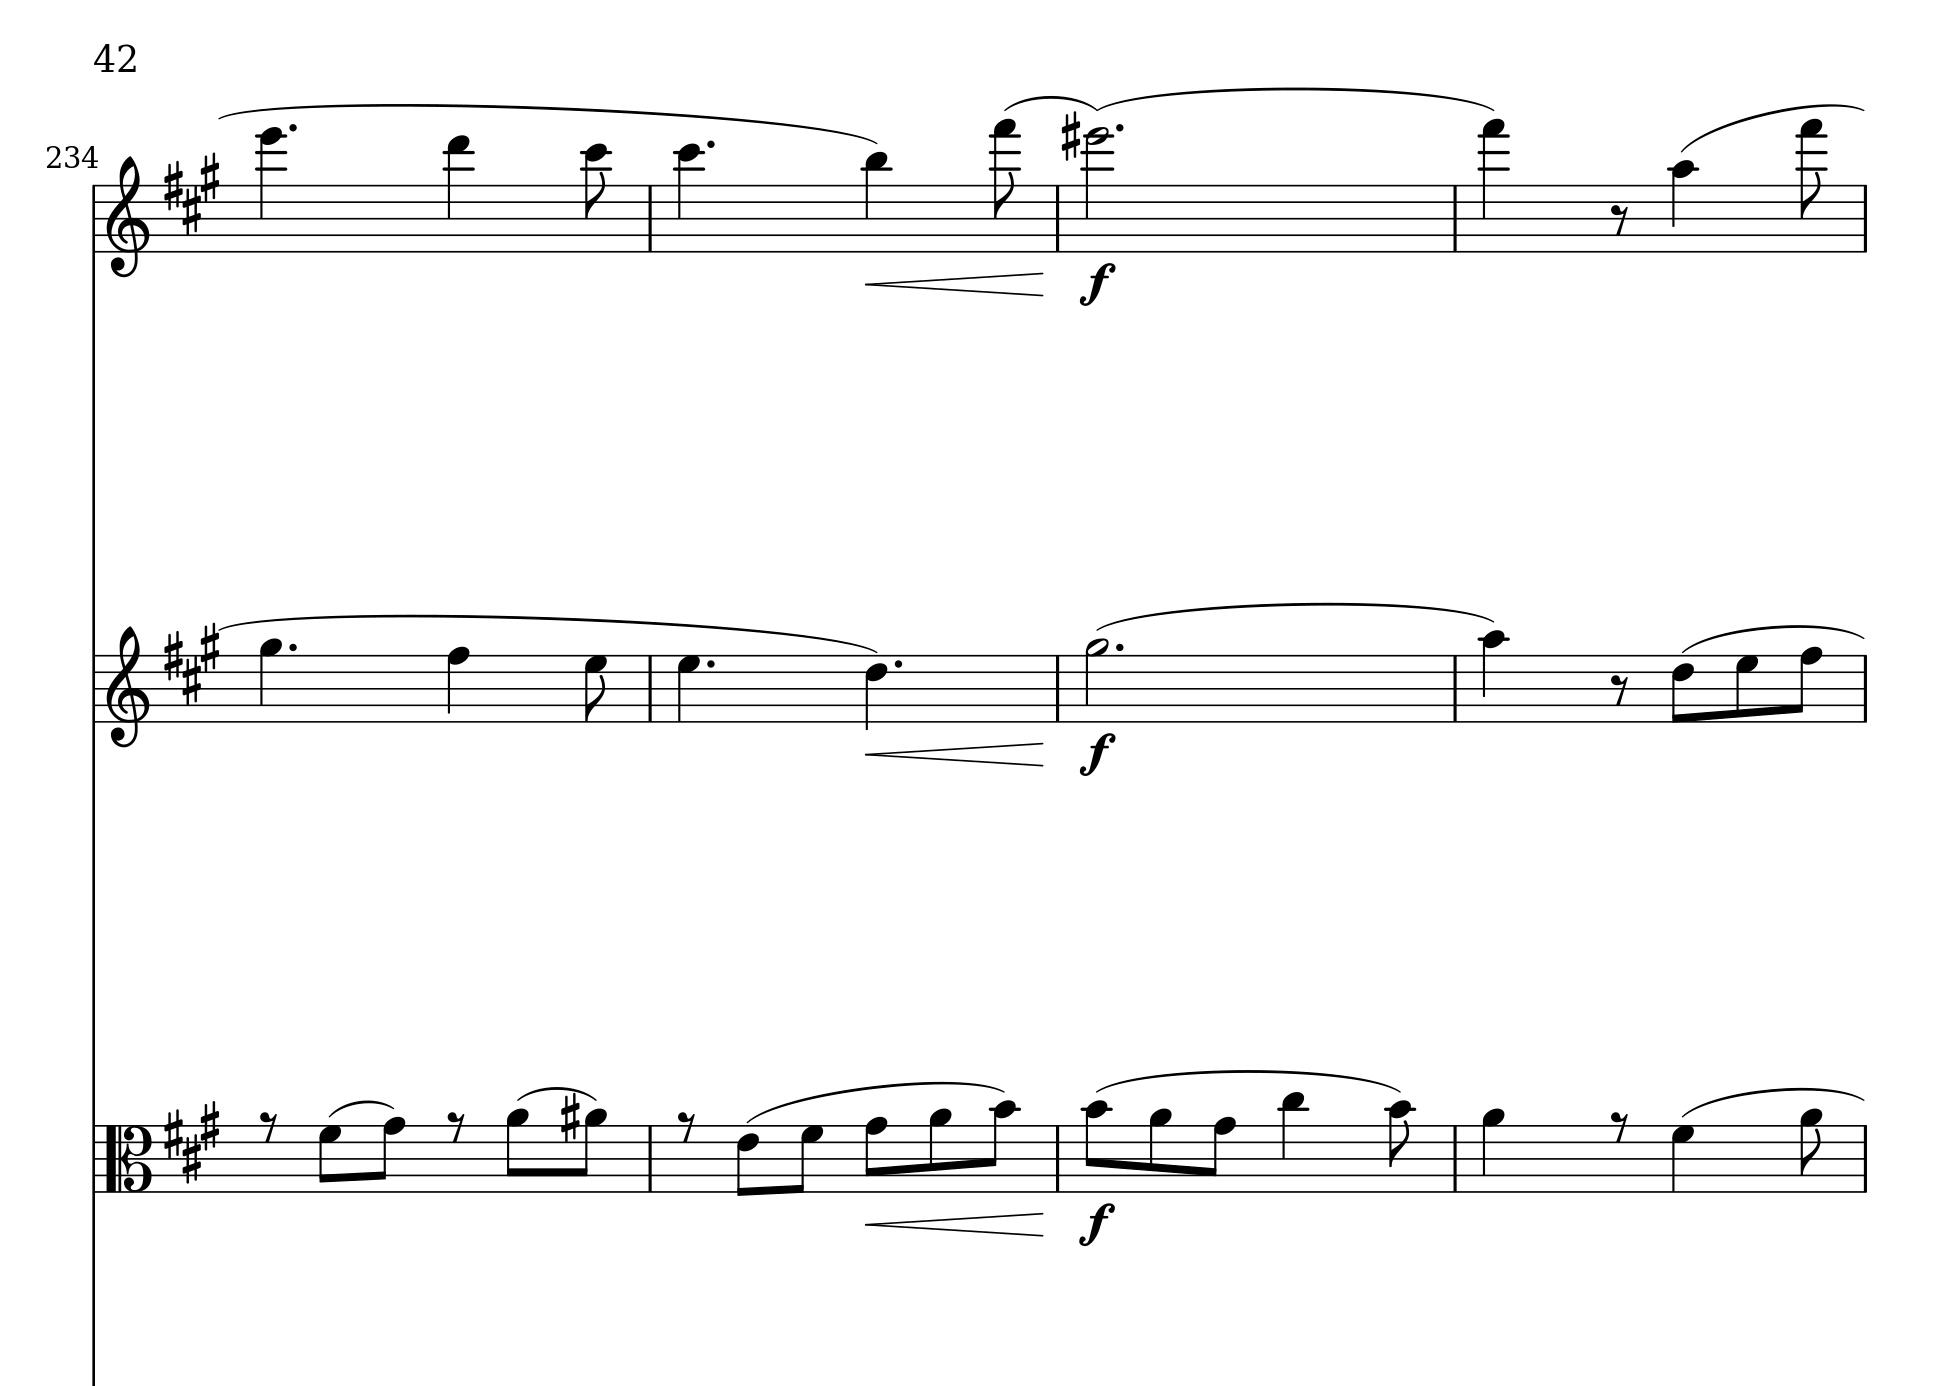2: (115, 40, 138, 73), (43, 142, 63, 171)
2_9: (1083, 637, 1110, 724)
3: (63, 142, 79, 169)
4: (93, 40, 114, 75), (81, 142, 99, 171)
4_10: (1668, 157, 1698, 255), (1479, 628, 1509, 724)
4_11: (861, 148, 889, 255), (1278, 1089, 1306, 1195)
4_12: (673, 141, 703, 255)
4_13: (442, 133, 472, 253)
4_14: (253, 124, 286, 255), (1083, 123, 1114, 253)
4_15: (1479, 117, 1507, 253)
4_6: (862, 652, 888, 730)
4_7: (675, 652, 702, 723), (1669, 1122, 1696, 1192)
4_8: (445, 643, 469, 724)
4_9: (1479, 1105, 1506, 1194), (256, 634, 282, 723)
8_10: (984, 1099, 1017, 1194), (1386, 1098, 1414, 1195), (1083, 1098, 1110, 1194)
8_12: (580, 141, 610, 255)
8_15: (1795, 117, 1827, 255), (990, 117, 1021, 253)
8_6: (733, 1122, 759, 1198), (1669, 652, 1695, 724)
8_7: (790, 1122, 823, 1194), (1734, 652, 1759, 724), (582, 652, 607, 723), (316, 1123, 342, 1192)
8_8: (1788, 643, 1822, 724), (370, 1114, 405, 1192), (1203, 1114, 1236, 1192), (862, 1114, 888, 1194)
8_9: (571, 1105, 606, 1194), (502, 1105, 529, 1194), (925, 1105, 952, 1194), (1798, 1105, 1824, 1194), (1147, 1105, 1171, 1192)
A_S: (160, 621, 220, 706), (162, 151, 220, 235), (162, 1099, 220, 1183)
Cclef: (103, 1123, 153, 1192)
Crescendo_hairpin: (862, 1209, 1044, 1240), (865, 739, 1044, 766), (865, 271, 1045, 297)
Gclef: (103, 622, 151, 748), (103, 154, 151, 279)
Rests8: (1608, 201, 1632, 237), (1608, 1108, 1630, 1144), (675, 1108, 697, 1143), (1609, 672, 1630, 706), (258, 1107, 279, 1141), (445, 1108, 466, 1143)
Sharp: (556, 1090, 579, 1143), (1059, 109, 1080, 162)
Single_barline: (85, 1123, 103, 1192), (1050, 655, 1068, 721), (1857, 184, 1873, 250), (642, 184, 658, 250), (1447, 184, 1464, 250), (1447, 1123, 1464, 1189), (1447, 655, 1464, 720), (642, 655, 658, 720), (642, 1125, 658, 1189), (85, 655, 100, 724), (85, 184, 100, 252), (1857, 1123, 1872, 1191), (1050, 184, 1065, 250), (1050, 1126, 1065, 1192), (1858, 655, 1872, 721)
Slur: (220, 102, 877, 147), (219, 613, 877, 654), (1096, 601, 1492, 631), (742, 1081, 1003, 1123), (1678, 100, 1867, 153), (1095, 87, 1491, 111), (1095, 1069, 1404, 1093), (1683, 624, 1870, 652), (1680, 1089, 1867, 1116), (1005, 94, 1095, 111), (516, 1084, 597, 1101), (327, 1099, 396, 1117)
dot: (703, 136, 717, 151), (1113, 640, 1126, 654), (703, 657, 717, 670), (892, 655, 904, 670), (286, 121, 298, 135), (1114, 121, 1126, 135), (286, 640, 298, 654)
f: (1075, 259, 1117, 307), (1075, 730, 1116, 777), (1075, 1201, 1116, 1246)
